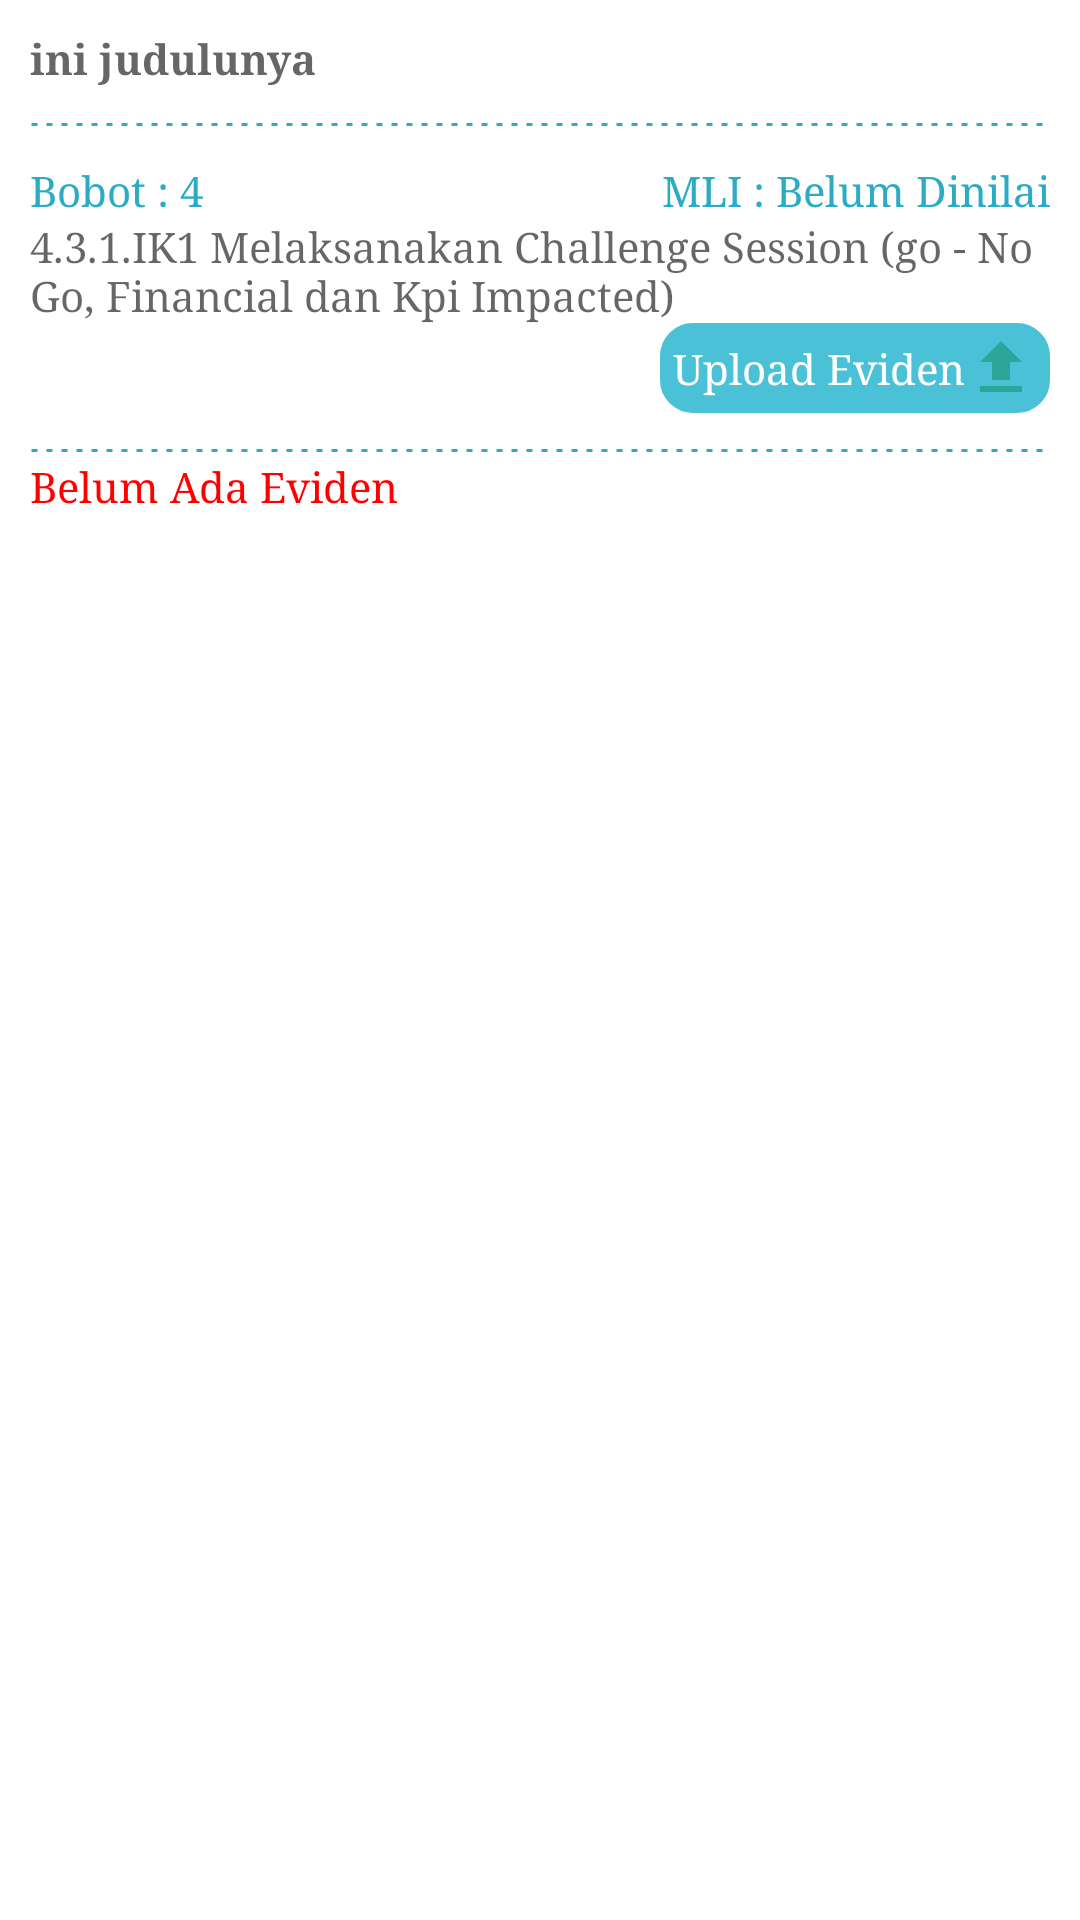

Icon click points for this 1080px x 1920px phone screenshot, format (x=x, y=y):
file upload: (x=1001, y=366)
